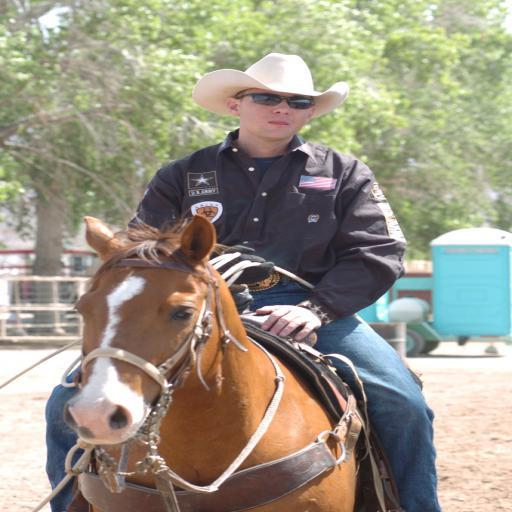Horse: (62, 215, 359, 512)
